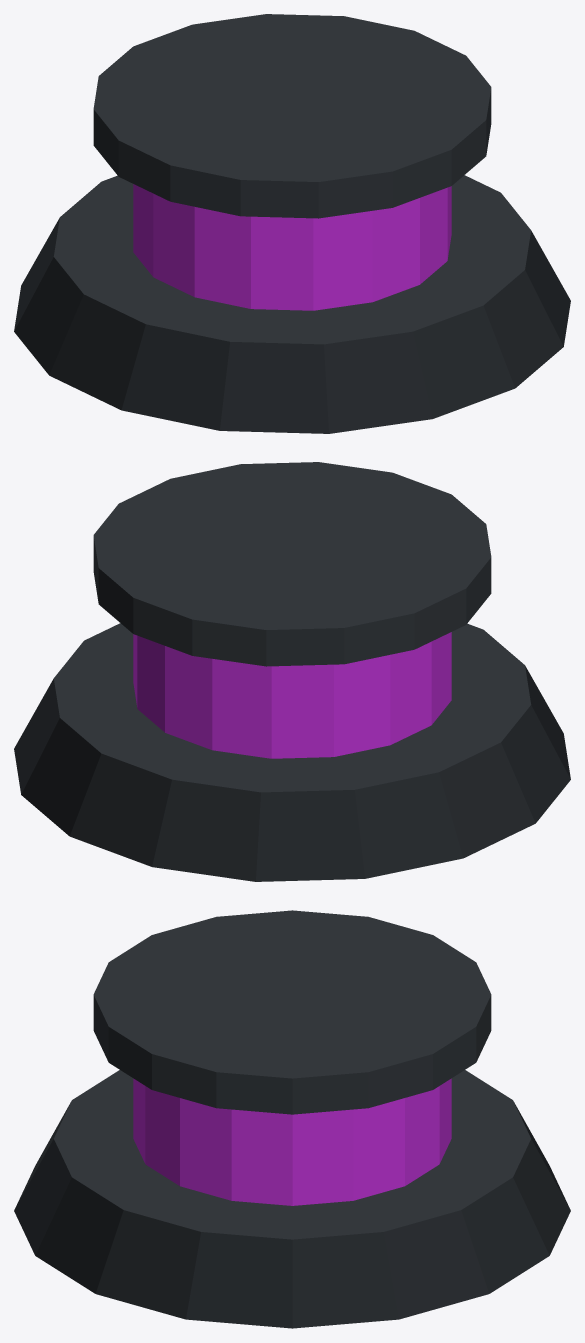
File: gravity_generator.obj
3 views of the same model, one above another, from view 1: azimuth 30°, elevation 25°; view 2: azimuth 150°, elevation 25°; view 3: azimuth 270°, elevation 25° (orthographic).
Visible parts, largest first — view 1: GravityGenerator; view 2: GravityGenerator; view 3: GravityGenerator.
Part boxes in pixels (x1,y1,x2,y2): GravityGenerator: [14, 14, 570, 433]; GravityGenerator: [14, 462, 570, 881]; GravityGenerator: [14, 910, 570, 1328].
Bounding box in the file's own units: 2.8 × 1.2 × 2.8.
